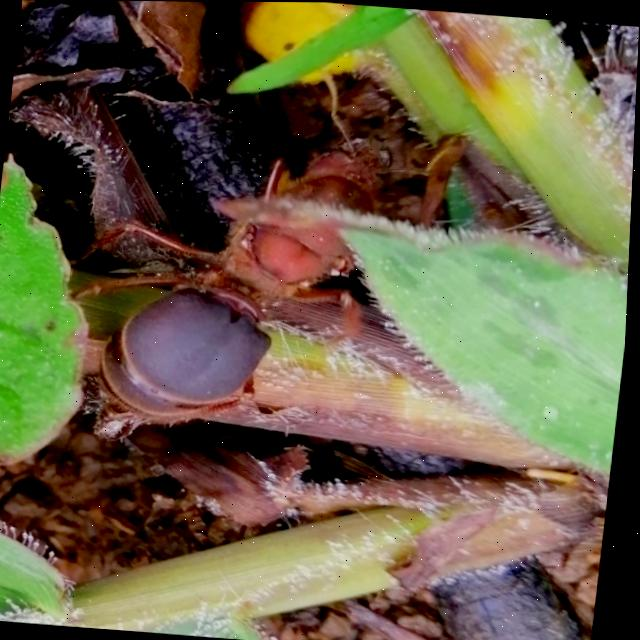Alive-Female-Dealate: (59, 52, 476, 447)
